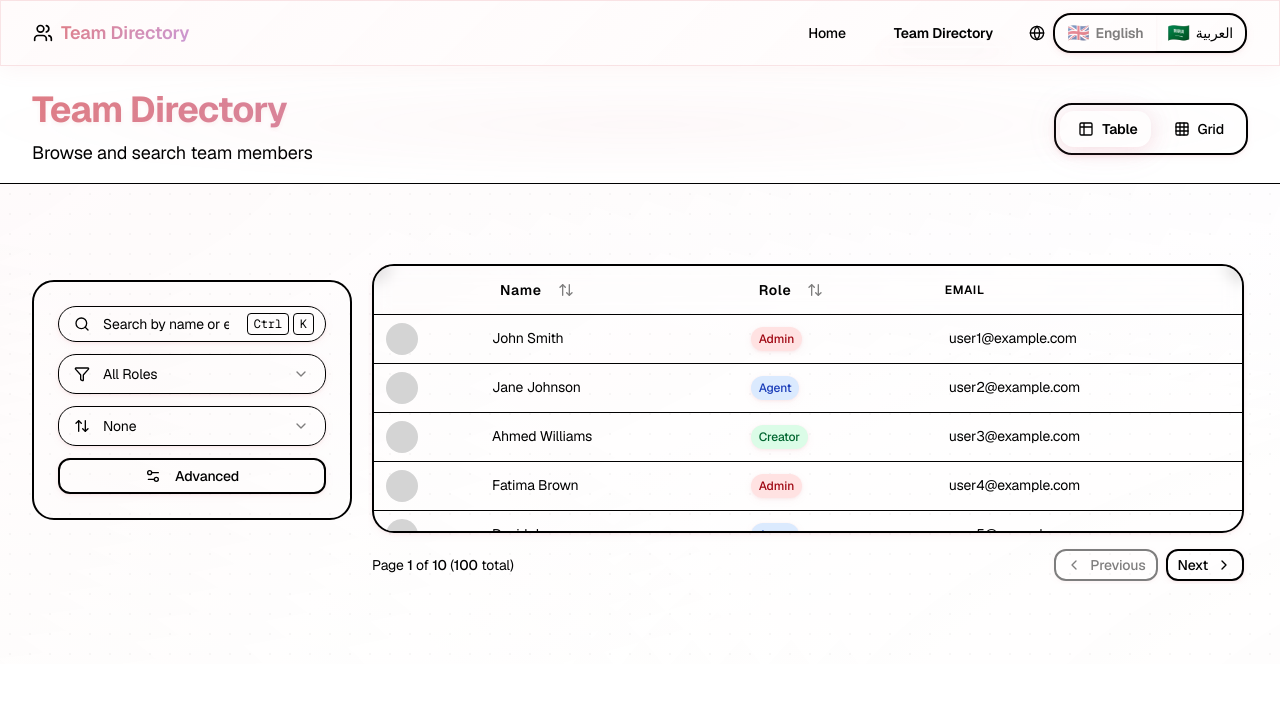
Test: Team Directory - Full User Journey › should handle empty search results
The image size is (1280, 720).
Type "nonexistentuser123456" into the field with placeholder "Search by name or email..." at (192, 324), box [58,306,326,342]
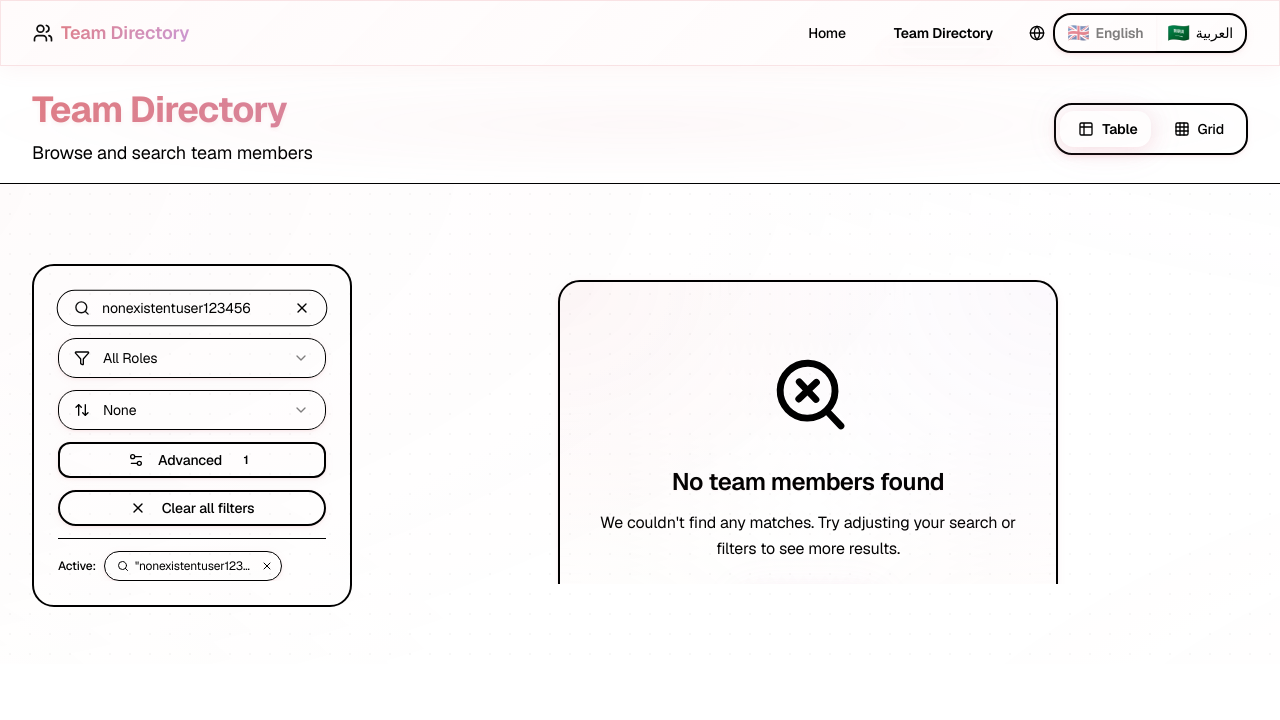
Expected: the heading "No team members found" is shown, [672,466,944,498]
Expected: the text "couldn't find any matches" is shown, [600,512,1016,559]
